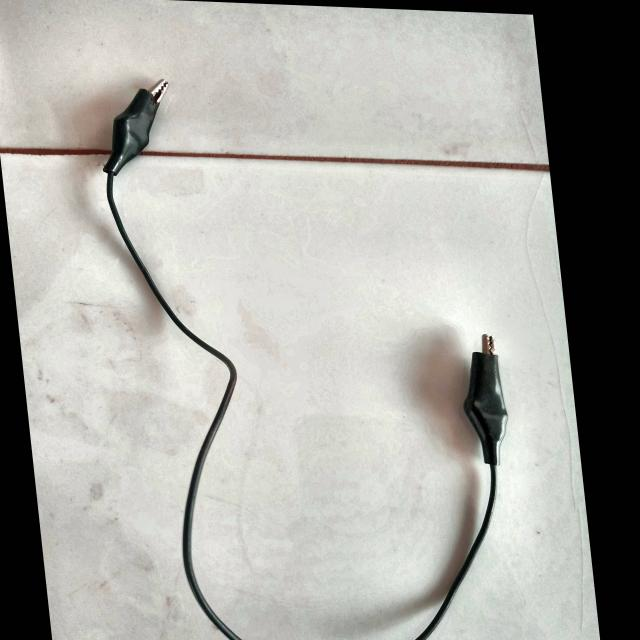BNC Cables Both Clips: (78, 64, 560, 640)
